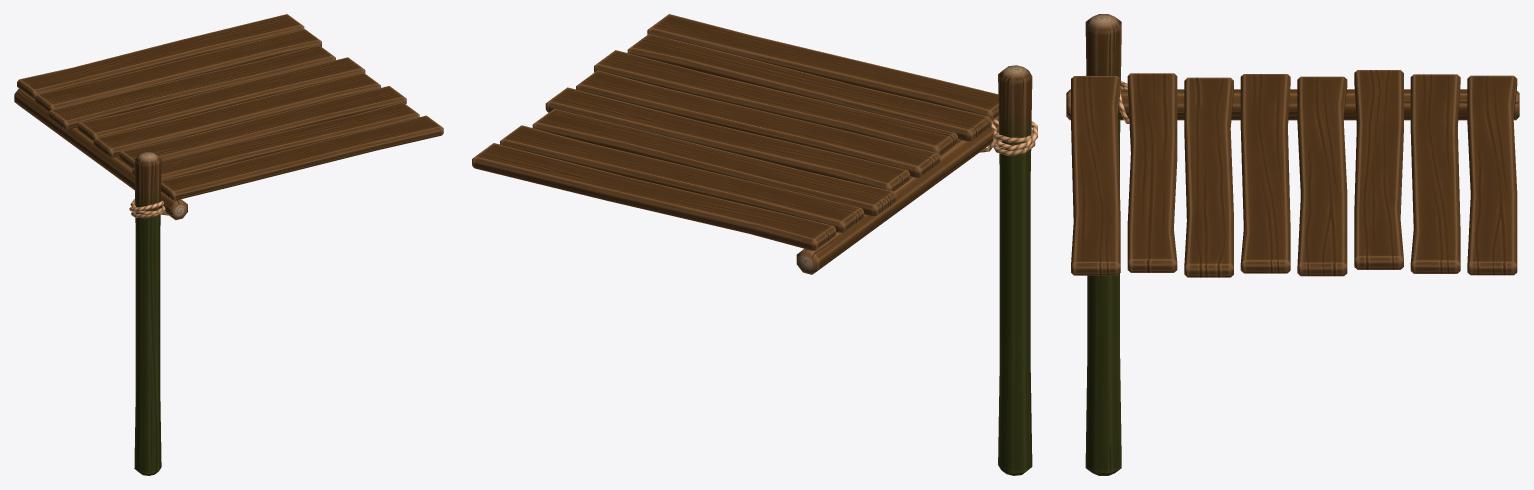
The model's file is Corner_left.2.fbx.
3 renders of one model, left to right at view 1: azimuth 30°, elevation 25°; view 2: azimuth 150°, elevation 25°; view 3: azimuth 270°, elevation 25°, orthographic. The views are drawn at different scales.
Parts seen in each view (by area): view 1: Corner_left.2; view 2: Corner_left.2; view 3: Corner_left.2.
Boxes of the visible parts, box(x1,y1,x2,y2) form: Corner_left.2: box(14, 14, 443, 475); Corner_left.2: box(472, 14, 1037, 475); Corner_left.2: box(1066, 14, 1519, 475).
Size of the model in its own units: 222 by 220 by 200.
